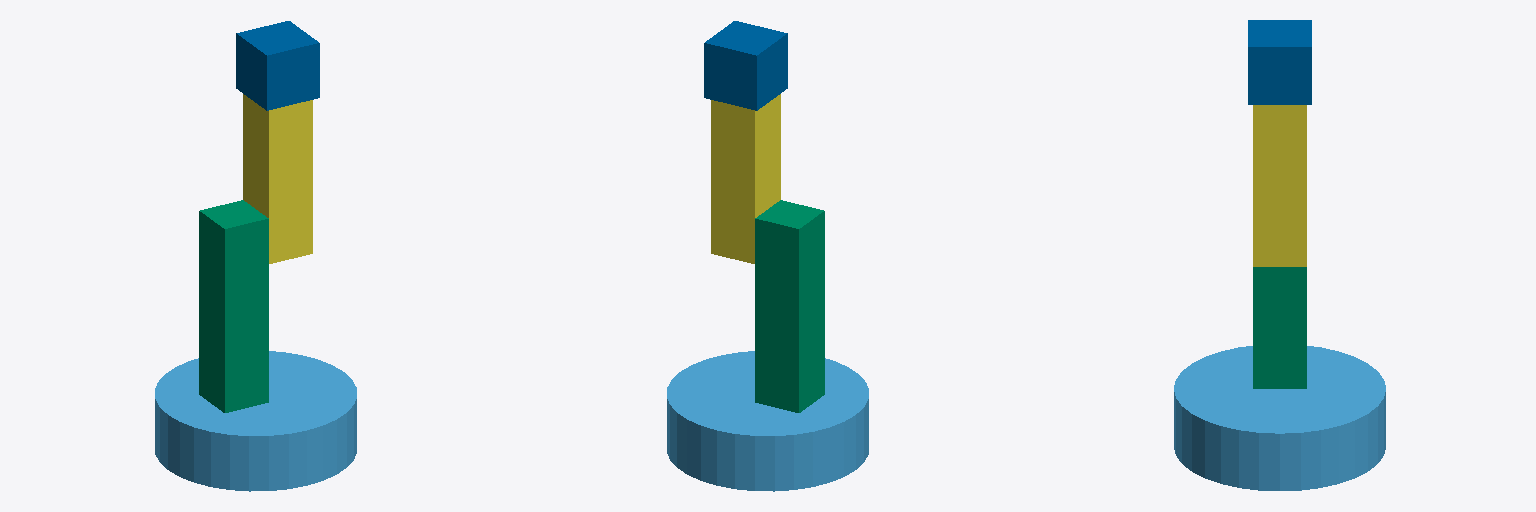
robot.urdf — robot:
<?xml version="1.0"?>
<robot name="robot">

	<link name="world"/>

	<link name="base">
		<visual>
			<geometry>
				<cylinder length="0.3" radius="0.5"/>
			</geometry>
		</visual>
	</link>

	<joint name="world_to_base" type="continuous">
		<parent link="world"/>
		<child link="base"/>
		<axis xyz="0 0 1"/>
	</joint>

	<link name="arm1">
		<visual>
			<geometry>
				<box size="0.25 0.25 1.0"/>
			</geometry>
			<origin rpy="0 0 0" xyz="-0.125 0 0.5"/>
		</visual>
	</link>

	<joint name="base_to_arm1" type="revolute">
		<parent link="base"/>
		<child link="arm1"/>
		<axis xyz="1 0 0"/>
		<limit effort="1000.0" lower="-1.57" upper="1.57" velocity="0.5"/>
		<origin xyz="0 0 0.15"/>
	</joint>

	<link name="arm2">
		<visual>
			<geometry>
				<box size="0.25 0.25 1.0"/>
			</geometry>
			<origin rpy="0 0 0" xyz="0.125 0 0.375"/>
		</visual>
	</link>

	<joint name="arm1_to_arm2" type="continuous">
		<parent link="arm1"/>
		<child link="arm2"/>
		<origin xyz="0 0 0.875"/>
	</joint>

	<link name="hand">
		<visual>
			<geometry>
				<box size="0.3 0.3 0.3"/>
			</geometry>
			<origin rpy="0 0 0" xyz="0 0 0"/>
		</visual>
	</link>

	<joint name="arm2_to_hand" type="fixed">
		<parent link="arm2"/>
		<child link="hand"/>
		<origin xyz="0.125 0 0.875"/>-->
	</joint>

</robot>

--- What the picture shows (computed from the rendered views, not written in the file) ---
3 views of the same robot in one strip: view 1: azimuth 30°, elevation 25°; view 2: azimuth 150°, elevation 25°; view 3: azimuth 270°, elevation 25° (orthographic).
Robot: robot — 5 links, 4 joints (1 revolute, 2 continuous, 1 fixed); root link world; default pose: every joint at zero.
Visible links, largest first — view 1: base, arm1, arm2, hand; view 2: base, arm1, arm2, hand; view 3: base, arm2, arm1, hand.
Boxes of the visible links, left/top/right/bottom form: base: left=155, top=351, right=356, bottom=491; arm1: left=199, top=200, right=268, bottom=412; arm2: left=243, top=94, right=312, bottom=263; hand: left=236, top=21, right=319, bottom=110; base: left=667, top=351, right=868, bottom=491; arm1: left=755, top=200, right=824, bottom=412; arm2: left=711, top=94, right=780, bottom=263; hand: left=704, top=21, right=787, bottom=110; base: left=1174, top=346, right=1385, bottom=490; arm2: left=1253, top=105, right=1306, bottom=266; arm1: left=1253, top=267, right=1306, bottom=388; hand: left=1248, top=20, right=1311, bottom=104.
Bounding box of the posed robot: 1 × 1 × 2.2 m (x, y, z).
Geometry: primitives only (box / cylinder / sphere), no mesh files.